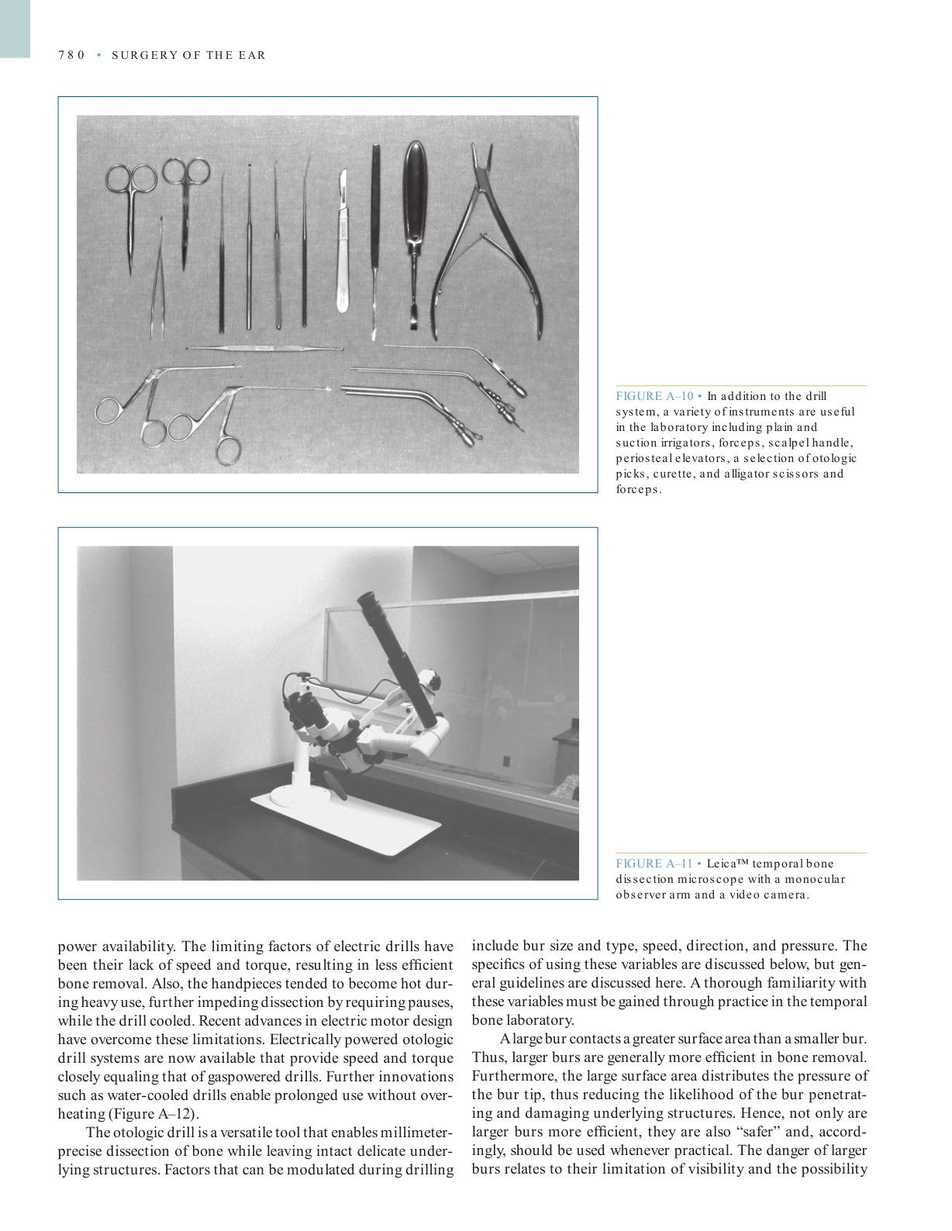caption: (614, 388, 859, 498), (614, 856, 847, 901)
header: (111, 49, 267, 59)
image: (76, 114, 580, 474), (76, 545, 581, 882)
text: (470, 938, 870, 1179), (55, 939, 456, 1179)
